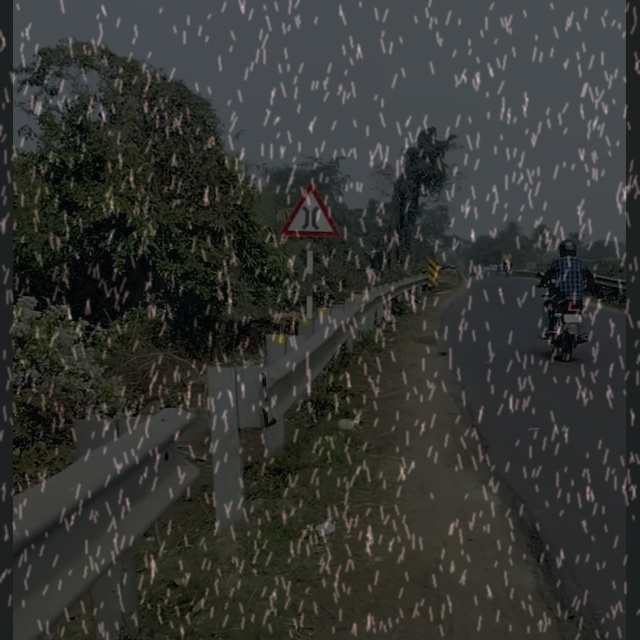Narrow_Bridge: (283, 183, 334, 236)
